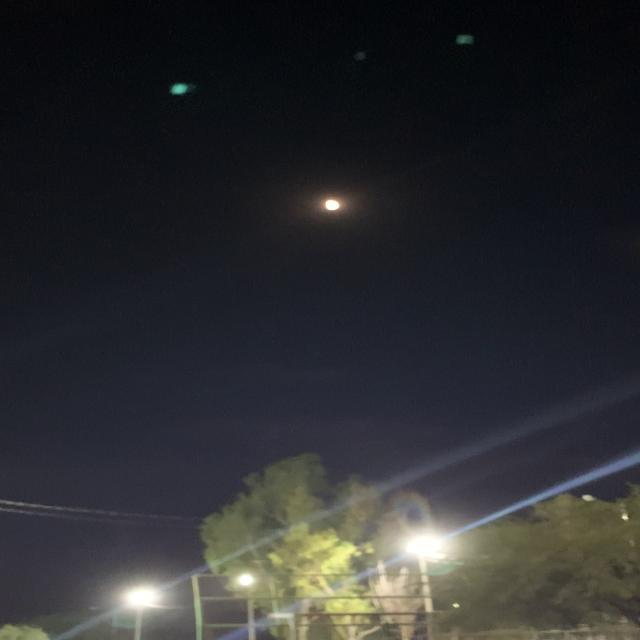moon: (304, 196, 359, 224)
